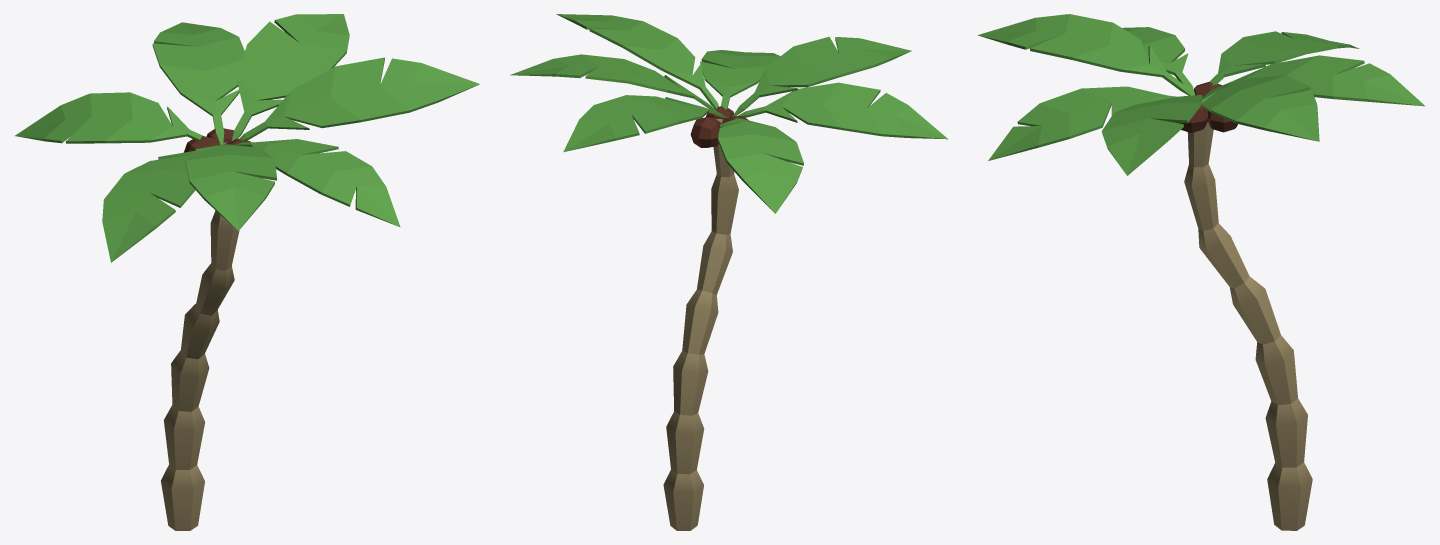
The model's file is Palm1.fbx.
The picture shows the model from 3 angles, left to right: view 1: azimuth 30°, elevation 25°; view 2: azimuth 150°, elevation 25°; view 3: azimuth 270°, elevation 25°; orthographic projection. The views are drawn at different scales.
Visible parts, largest first — view 1: pCylinder20, pPlane21, pPlane19, pPlane22, pPlane23, pPlane16, pPlane15, pPlane20; view 2: pCylinder20, pPlane16, pPlane20, pPlane22, pPlane23, pPlane21, pPlane19, pPlane15, pPlatonic11; view 3: pCylinder20, pPlane20, pPlane15, pPlane19, pPlane23, pPlane21, pPlane22, pPlane16.
Part boxes in pixels (x1,y1,x2,y2): pCylinder20: (161, 142, 239, 530); pPlane21: (239, 57, 479, 141); pPlane19: (231, 14, 349, 140); pPlane22: (15, 92, 203, 143); pPlane23: (152, 22, 244, 144); pPlane16: (102, 150, 195, 262); pPlane15: (235, 139, 400, 227); pPlane20: (185, 144, 276, 230); pCylinder20: (663, 116, 738, 530); pPlane16: (738, 82, 947, 139); pPlane20: (732, 36, 911, 116); pPlane22: (717, 118, 803, 213); pPlane23: (563, 95, 726, 152); pPlane21: (556, 14, 718, 109); pPlane19: (510, 54, 716, 111); pPlane15: (700, 50, 780, 109); pPlatonic11: (690, 117, 720, 147); pCylinder20: (1184, 121, 1312, 530); pPlane20: (977, 14, 1192, 95); pPlane15: (988, 86, 1176, 160); pPlane19: (1201, 75, 1319, 141); pPlane23: (1205, 55, 1425, 106); pPlane21: (1101, 95, 1202, 175); pPlane22: (1209, 31, 1359, 85); pPlane16: (1122, 27, 1195, 95).
Bounding box in the file's own units: 16.79 × 19.07 × 15.92.
